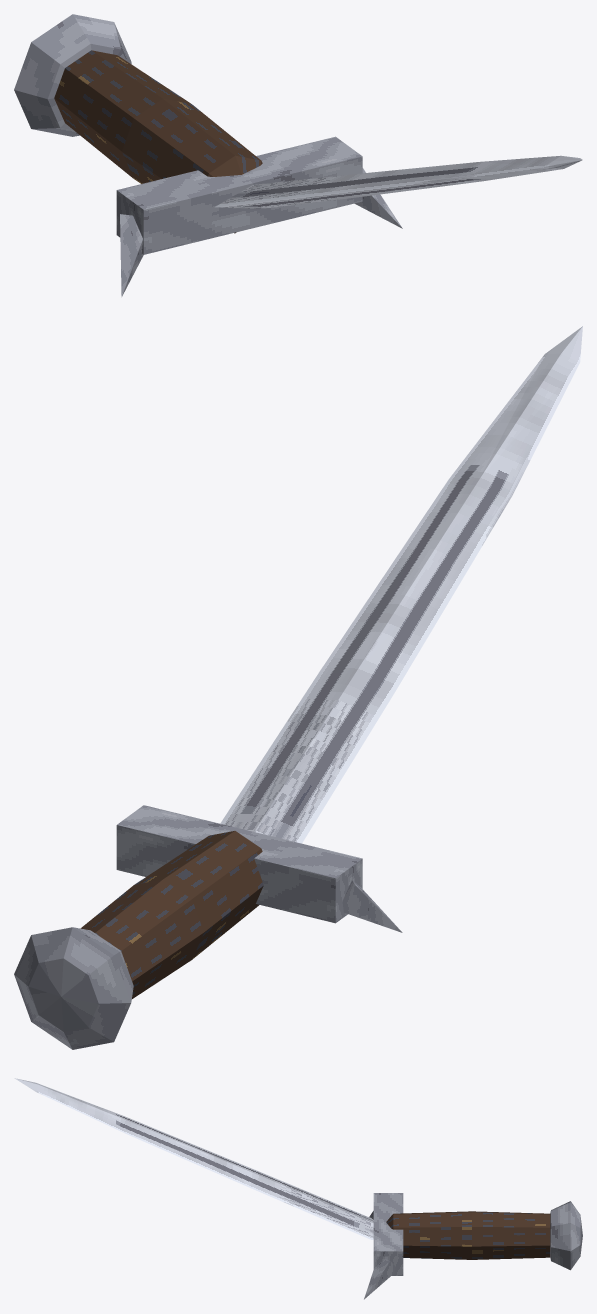
File: blade.glb
3 renders of one model, top to bottom at view 1: azimuth 30°, elevation 25°; view 2: azimuth 150°, elevation 25°; view 3: azimuth 270°, elevation 25°, orthographic. The views are drawn at different scales.
Visible parts, largest first — view 1: sword; view 2: sword; view 3: sword.
Boxes of the visible parts, x1=… form: sword: x1=14, y1=14, x2=582, y2=296; sword: x1=14, y1=326, x2=582, y2=1049; sword: x1=14, y1=1078, x2=582, y2=1299.
Bounding box in the file's own units: 0.1296 × 0.1541 × 0.4158.
Materials: 1 (1 with a texture image).
